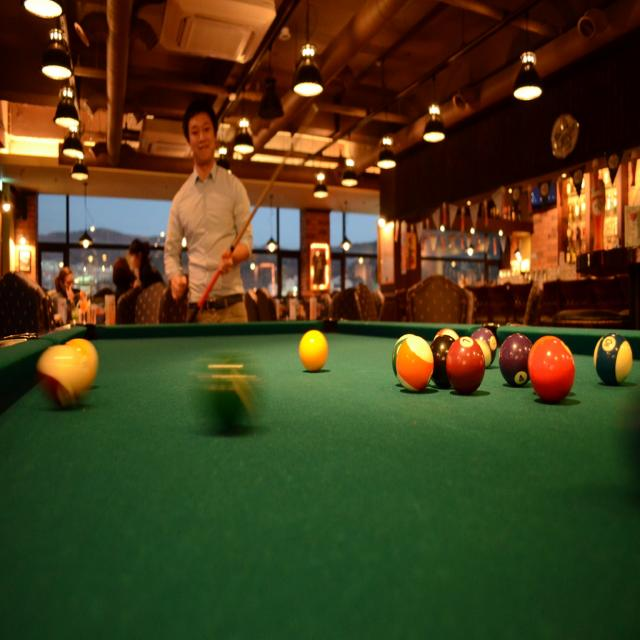Ball: (38, 328, 632, 408)
Billiard table: (0, 321, 640, 640)
